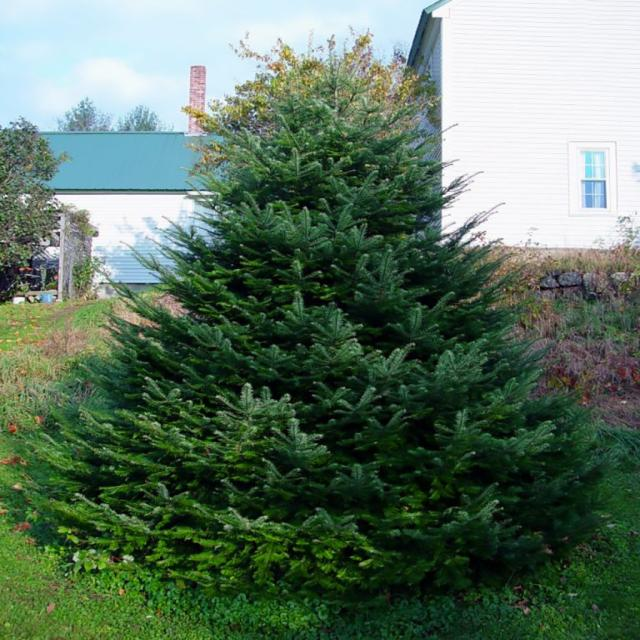Abies: (29, 44, 592, 559)
